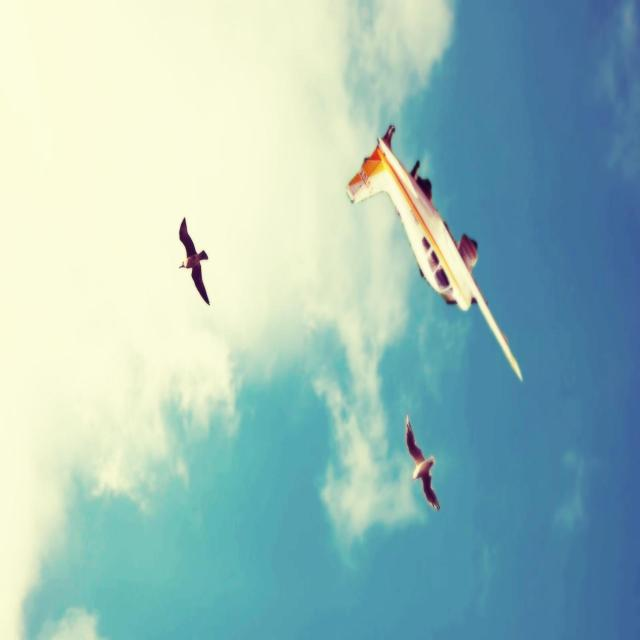airplane: (345, 122, 523, 382)
